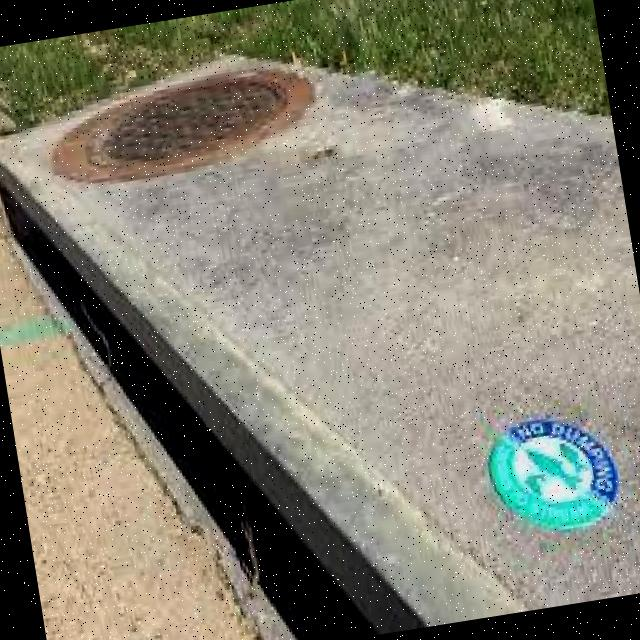curb: (1, 115, 523, 640)
